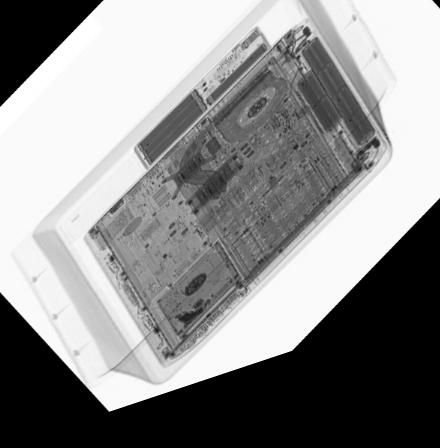Powerbank: (130, 40, 269, 177)
